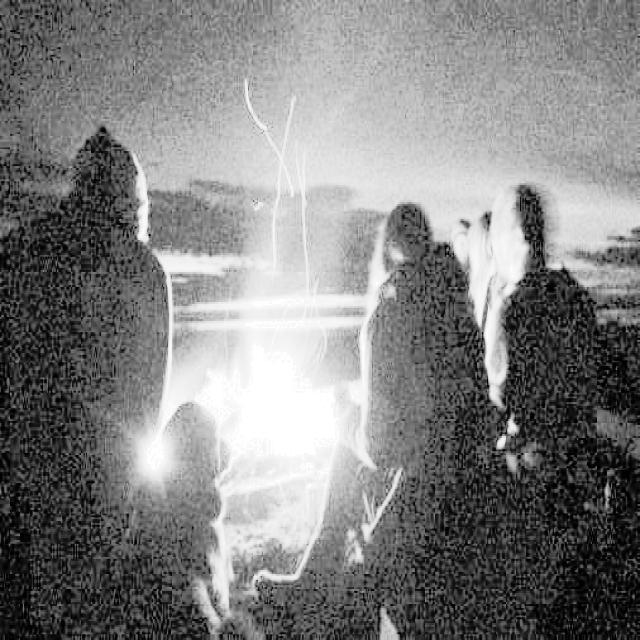Dog: (167, 384, 262, 628)
